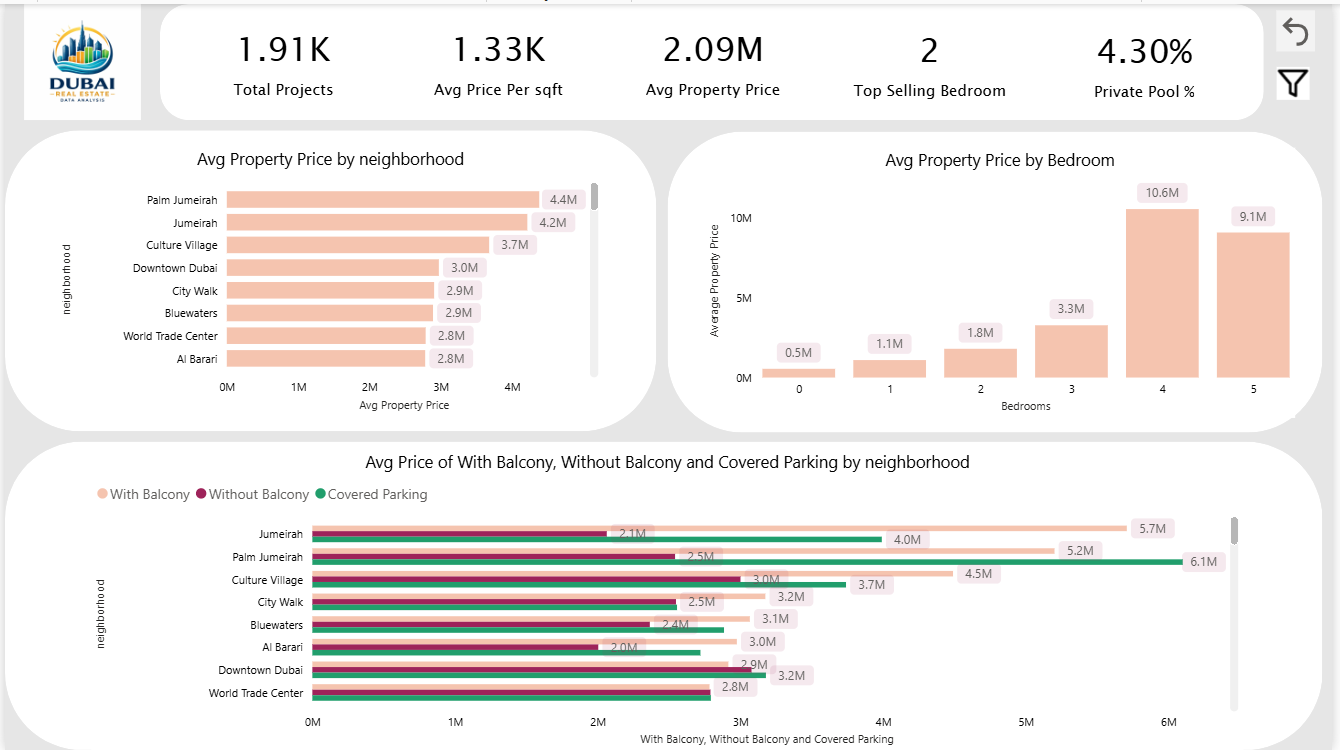

What the dashboard file says about the page in this screenshot:
{"tool":"powerbi","page":{"name":"Dubai Real Estate","canvas":[1280,720],"ordinal":0},"visuals":[{"type":"image","box":[0,0,149.6,112.2],"z":0},{"type":"shape","box":[149.6,0,1065.3,112.2],"z":0,"group":"g4"},{"type":"actionButton","box":[1060.5,3.6,48.3,39.8],"z":0,"group":"g5"},{"type":"shape","box":[0,121.9,628.6,290.8],"z":0,"group":"g1"},{"type":"shape","box":[639.4,123.1,632.2,290.8],"z":0,"group":"g2"},{"type":"shape","box":[0,422.3,1271.6,298],"z":0,"group":"g3"},{"type":"cardVisual","title":"Total Projects","fields":{"Data":["Measure.Total Projects"]},"box":[165.2,3.6,207.5,106.2],"z":1000,"group":"g4"},{"type":"group","id":"g1","title":"Group 1","box":[0,121.9,628.6,290.8],"z":1000},{"type":"clusteredBarChart","fields":{"Category":["properties_data.neighborhood"],"Y":["Measure.Avg Property Price"]},"box":[50.1,137.6,527.1,260.6],"z":1000,"group":"g1"},{"type":"clusteredColumnChart","title":"Avg Property Price by Bedroom","fields":{"Category":["properties_data.no_of_bedrooms"],"Y":["Measure.Avg Property Price"]},"box":[675.6,138.8,569.4,260.6],"z":1000,"group":"g2"},{"type":"clusteredBarChart","title":"Avg Price of With Balcony, Without Balcony and Covered Parking by neighborhood","fields":{"Category":["properties_data.neighborhood"],"Y":["Measure.WITH BALCONY","Measure.Without Balcony","Measure.Covered Parking"]},"box":[83.2,430.7,1112.3,289.5],"z":1000,"group":"g3"},{"type":"cardVisual","fields":{"Data":["Measure.Avg Property Price"]},"box":[580.3,3.6,206.8,106.2],"z":2000,"group":"g4"},{"type":"group","id":"g2","title":"Group 2","box":[639.4,123.1,632.2,290.8],"z":2000},{"type":"cardVisual","fields":{"Data":["Measure.Avg Price Per sqft"]},"box":[372.7,3.6,207.5,106.2],"z":3000,"group":"g4"},{"type":"group","id":"g3","title":"Group 3","box":[0,422.3,1271.6,298],"z":3000},{"type":"group","id":"g4","title":"Group 4","box":[149.6,0,1065.3,112.2],"z":4000},{"type":"cardVisual","fields":{"Data":["Measure.Avg Bedrooms"]},"box":[789,4.8,207.5,106],"z":4000,"group":"g4"},{"type":"group","id":"g5","title":"Group 5","box":[1060.5,3.6,48.3,39.8],"z":5000},{"type":"cardVisual","fields":{"Data":["Measure.Properties with Private Pool"]},"box":[996.6,6,206.8,106],"z":5000,"group":"g4"},{"type":"actionButton","box":[1227,6,37.4,39.8],"z":6000},{"type":"actionButton","title":"Filter Button","box":[1223.3,56.7,56.7,39.8],"z":9000}]}

Visuals, with their boxes in screenshot pixels (x1, y1, x2, y2), scaled from the page's 1280x720 canvas onto the 1340x750 screenshot:
image: 0,0,157,117
shape: 157,0,1272,117
actionButton: 1110,4,1161,45
shape: 0,127,658,430
shape: 669,128,1331,431
shape: 0,440,1331,749
"Total Projects" cardVisual: 173,4,390,114
"Group 1" group: 0,127,658,430
clusteredBarChart - properties_data.neighborhood x Measure.Avg Property Price: 52,143,604,415
"Avg Property Price by Bedroom" clusteredColumnChart: 707,145,1303,416
"Avg Price of With Balcony, Without Balcony and Covered Parking by neighborhood" clusteredBarChart: 87,449,1252,749
cardVisual - Measure.Avg Property Price: 608,4,824,114
"Group 2" group: 669,128,1331,431
cardVisual - Measure.Avg Price Per sqft: 390,4,607,114
"Group 3" group: 0,440,1331,749
"Group 4" group: 157,0,1272,117
cardVisual - Measure.Avg Bedrooms: 826,5,1043,115
"Group 5" group: 1110,4,1161,45
cardVisual - Measure.Properties with Private Pool: 1043,6,1260,117
actionButton: 1285,6,1324,48
"Filter Button" actionButton: 1281,59,1339,101
